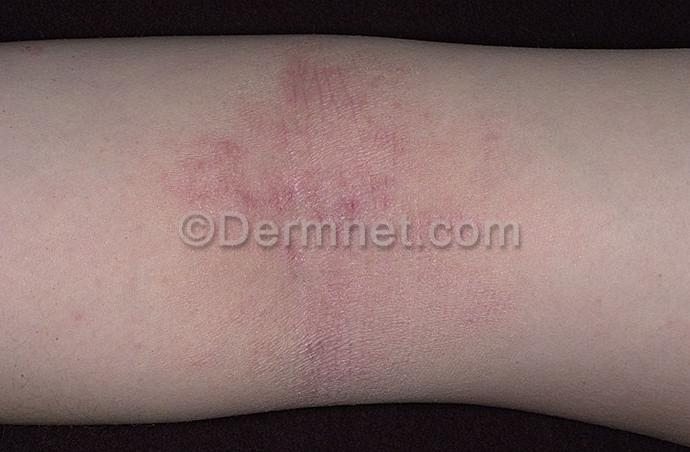Eritema 2: (185, 42, 442, 420)
exudacion 1: (249, 140, 378, 235)
xerosis 1: (182, 42, 446, 421)
